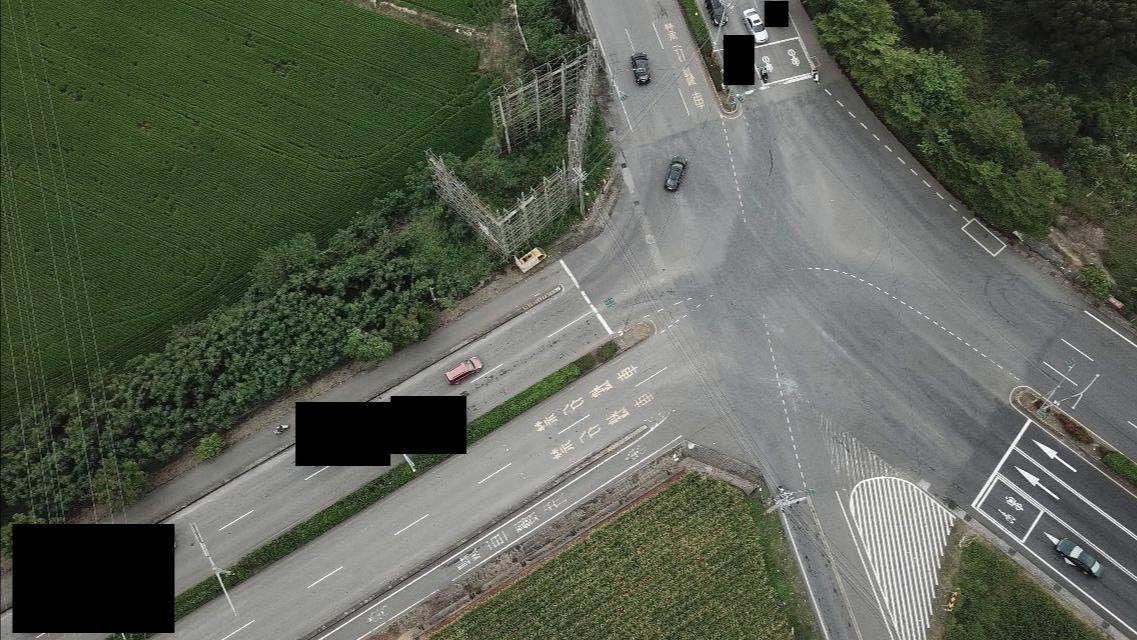vehicle: (1056, 537, 1106, 576), (444, 356, 482, 385), (743, 8, 770, 42), (664, 154, 687, 191), (629, 51, 653, 84), (703, 1, 729, 26), (519, 247, 546, 269)
